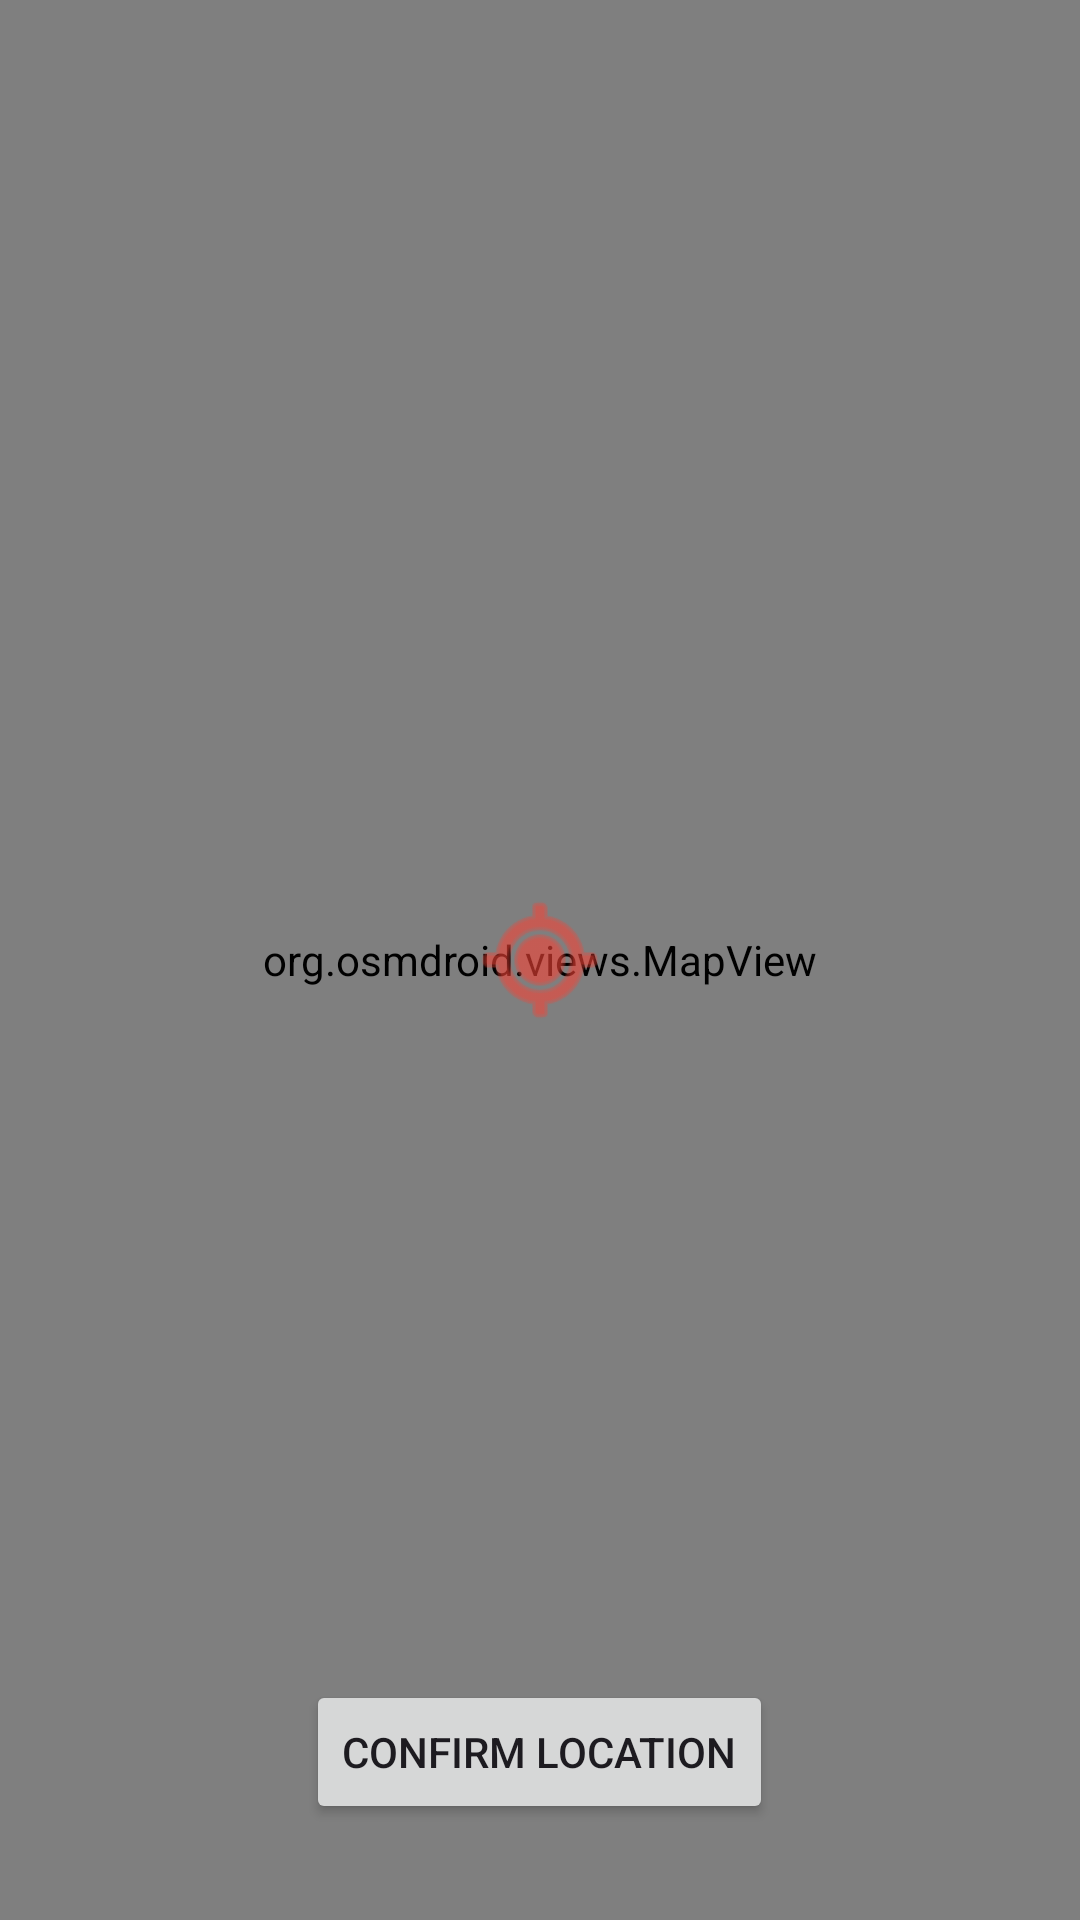

Named icons in this screenshot (1080 x 1920) and their bounding boxes, (x1, y1, x2, y2):
mylocation: (483, 903, 608, 1017)
